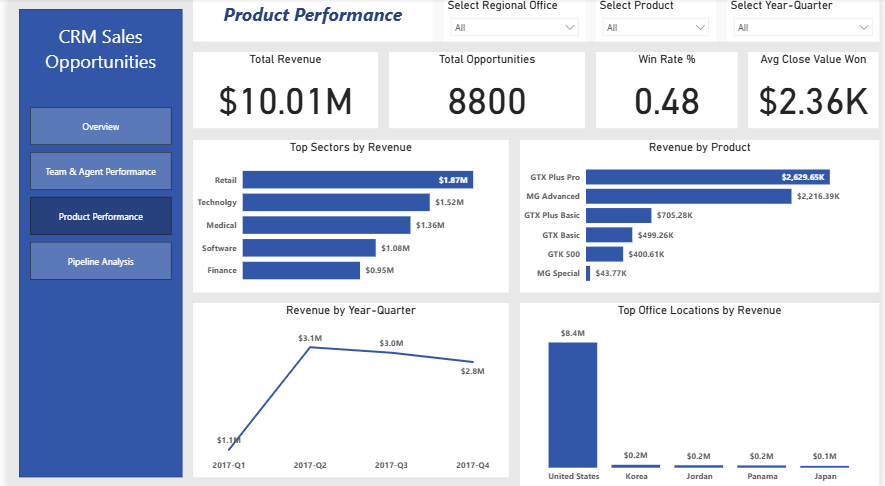

What the dashboard file says about the page in this screenshot:
{"tool":"powerbi","page":{"name":"Product Performance","canvas":[1280,720],"ordinal":2},"visuals":[{"type":"shape","box":[288,0,992,64],"z":0},{"type":"shape","box":[16,16,240,688],"z":1000},{"type":"lineChart","title":"Revenue by Year-Quarter","fields":{"Y":["_Measures.Total Revenue"],"Category":["Date Table.Year-Quarter"]},"box":[272,448,464,256],"z":2000},{"type":"clusteredBarChart","title":"Revenue by Product","fields":{"Category":["products.product"],"Y":["_Measures.Total Revenue"]},"box":[752,208,528,224],"z":3000},{"type":"pageNavigator","box":[32,160,208,256],"z":4000},{"type":"clusteredBarChart","title":"Top Sectors by Revenue","fields":{"Y":["_Measures.Total Revenue"],"Category":["accounts.sector"]},"box":[272,208,464,224],"z":5000},{"type":"card","title":"Total Revenue","fields":{"Values":["_Measures.Total Pipeline Value"]},"box":[272,80,272,112],"z":6000},{"type":"card","title":"Win Rate %","fields":{"Values":["_Measures.Win Rate %"]},"box":[864,80,208,112],"z":7000},{"type":"card","title":"Total Opportunities","fields":{"Values":["_Measures.Opportunities Count"]},"box":[560,80,288,112],"z":8000},{"type":"card","title":"Avg Close Value Won","fields":{"Values":["_Measures.Avg Close Value Won"]},"box":[1088,80,192,112],"z":9000},{"type":"slicer","title":"Select Year-Quarter","fields":{"Values":["Date Table.Year-Quarter"]},"box":[1056,0,224,64],"z":10000},{"type":"slicer","title":"Select Product","fields":{"Values":["products.product"]},"box":[864,0,176,64],"z":11000},{"type":"slicer","title":"Select Regional Office","fields":{"Values":["sales_teams.regional_office"]},"box":[640,0,208,64],"z":12000},{"type":"textbox","box":[272,0,352,64],"z":13000},{"type":"textbox","box":[16,32,240,128],"z":14000},{"type":"clusteredColumnChart","title":"Top Office Locations by Revenue","fields":{"Y":["_Measures.Total Revenue"],"Category":["accounts.office_location"]},"box":[752,448,528,272],"z":15000}]}

Visuals, with their boxes in screenshot pixels (x1, y1, x2, y2), scaled from the page's 1280x720 canvas onto the 885x486 screenshot:
shape: bbox(199, 0, 884, 43)
shape: bbox(11, 11, 177, 475)
"Revenue by Year-Quarter" lineChart: bbox(188, 302, 509, 475)
"Revenue by Product" clusteredBarChart: bbox(520, 140, 884, 292)
pageNavigator: bbox(22, 108, 166, 281)
"Top Sectors by Revenue" clusteredBarChart: bbox(188, 140, 509, 292)
"Total Revenue" card: bbox(188, 54, 376, 130)
"Win Rate %" card: bbox(597, 54, 741, 130)
"Total Opportunities" card: bbox(387, 54, 586, 130)
"Avg Close Value Won" card: bbox(752, 54, 884, 130)
"Select Year-Quarter" slicer: bbox(730, 0, 884, 43)
"Select Product" slicer: bbox(597, 0, 719, 43)
"Select Regional Office" slicer: bbox(442, 0, 586, 43)
textbox: bbox(188, 0, 431, 43)
textbox: bbox(11, 22, 177, 108)
"Top Office Locations by Revenue" clusteredColumnChart: bbox(520, 302, 884, 485)
